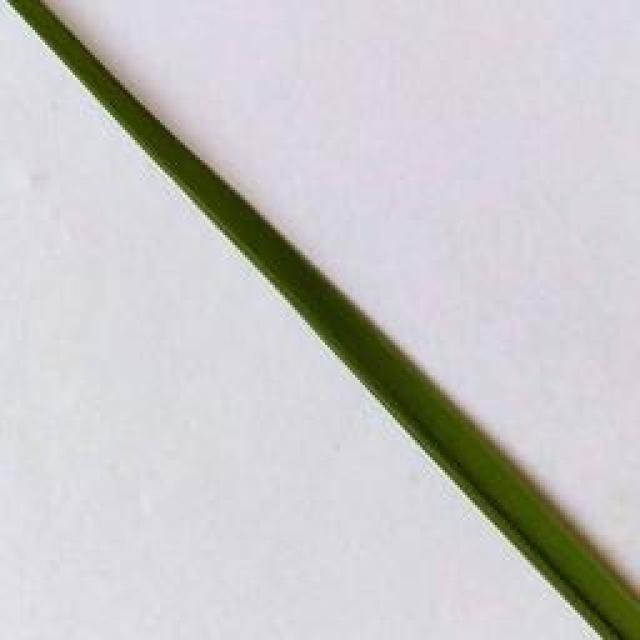Bacterial_Blight: (375, 328, 640, 598)
